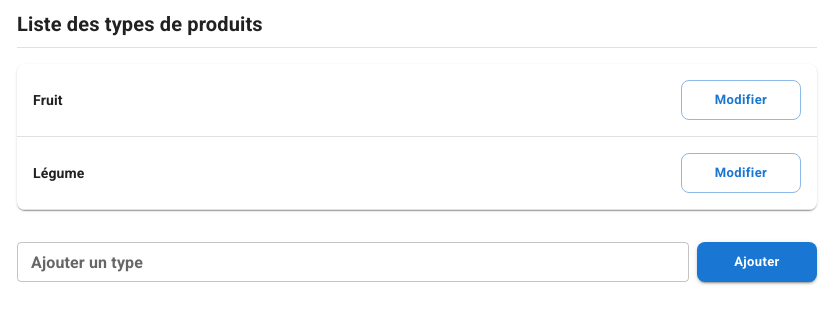
Test case: ProductTypeListPage › should show error if trying to add empty type
What coordinates should you click on to do the following:
click the button "Ajouter"
I would click on:
 (757, 262)
Its box is [697, 242, 817, 282].
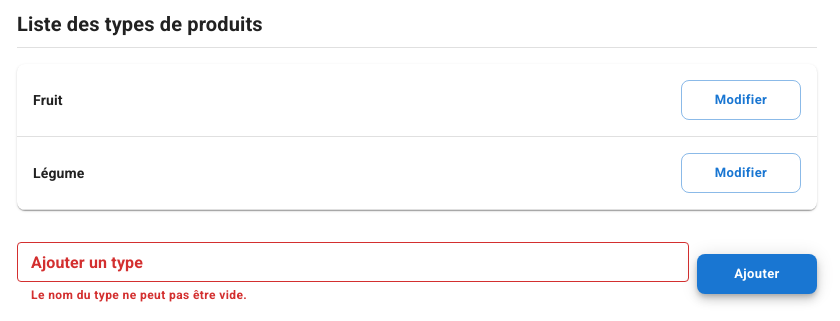
Now the text "Le nom du type ne peut pas être vide." is shown, box [31, 288, 247, 302]
